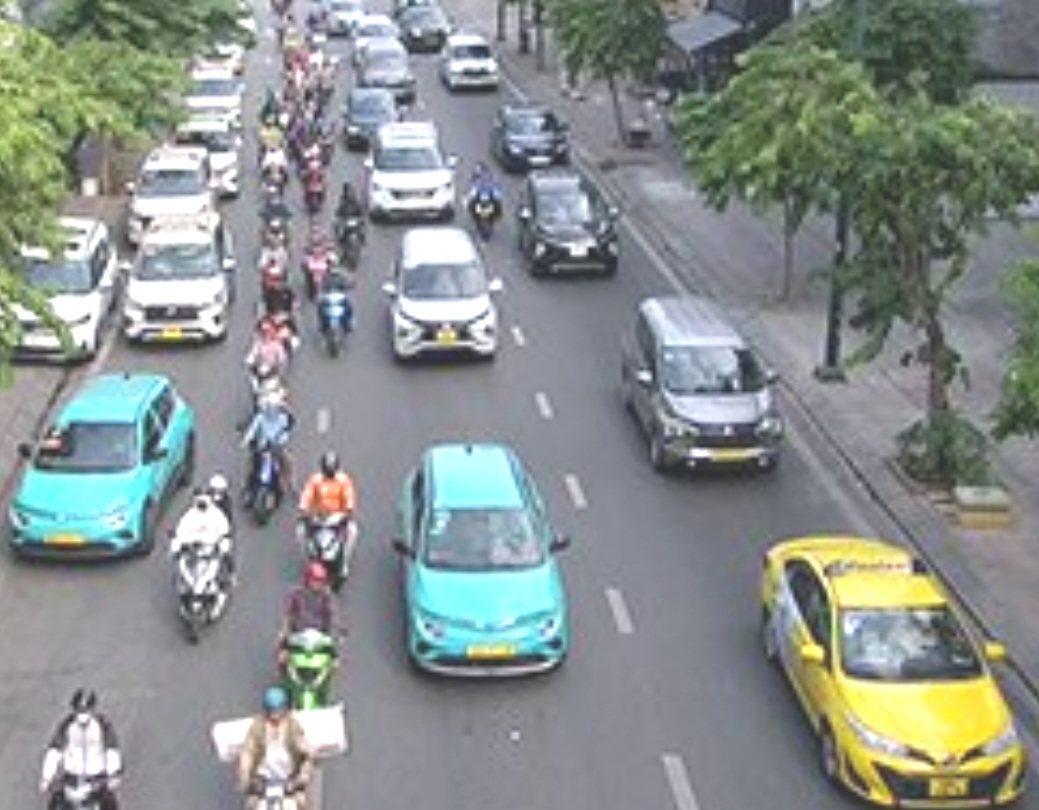car: (751, 531, 1019, 806), (390, 439, 566, 676), (8, 370, 202, 564), (624, 305, 791, 483), (382, 224, 499, 366), (130, 222, 232, 347), (517, 177, 617, 284), (368, 121, 455, 223), (131, 146, 216, 228), (491, 98, 564, 167), (441, 37, 498, 91), (342, 90, 400, 143), (360, 45, 418, 96)
